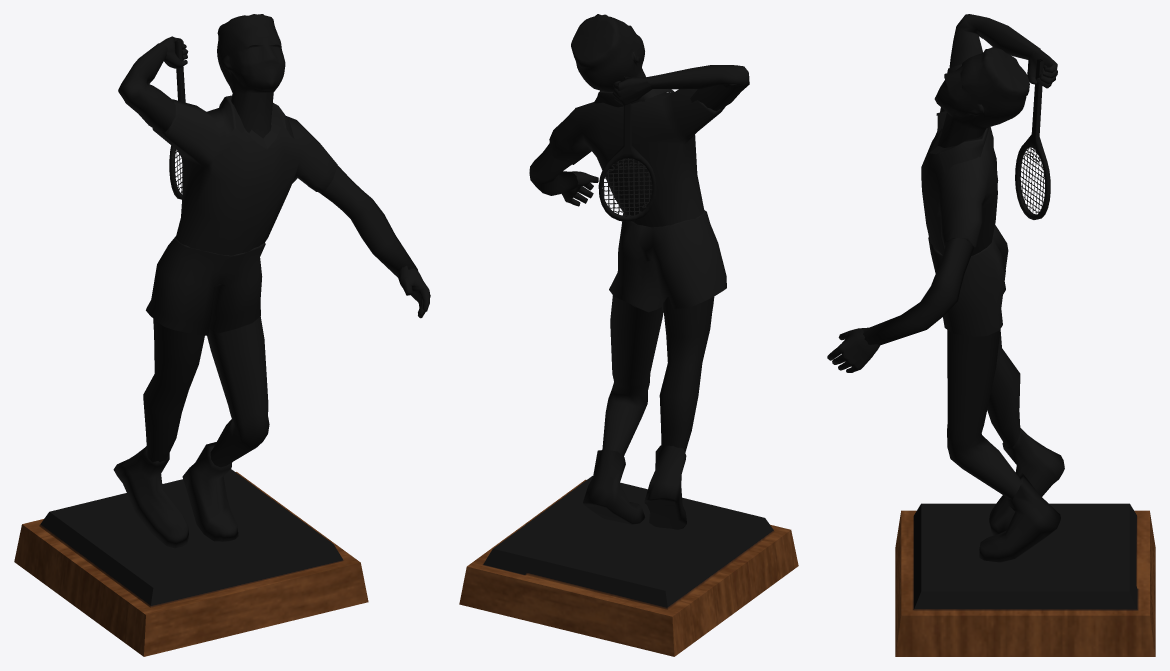
The model's file is Small statue.fbx.
The picture shows the model from 3 angles, left to right: view 1: azimuth 30°, elevation 25°; view 2: azimuth 150°, elevation 25°; view 3: azimuth 270°, elevation 25°; orthographic projection. The views are drawn at different scales.
Parts seen in each view (by area): view 1: stand, t_shirt, shots, right_leg, face, left_leg, lefr_shoe, right_hand, right_shoe, left_hand, collar2, right_palm (+1 smaller); view 2: stand, t_shirt, shots, right_leg, left_leg, face, left_hand, lefr_shoe, right_shoe, pPipe1, right_hand, pPlane2 (+2 smaller); view 3: stand, right_leg, t_shirt, face, shots, right_hand, right_shoe, lefr_shoe, left_hand, left_leg, pPipe1, right_palm (+3 smaller).
Boxes of the visible parts, x1,y1,x2,y2 form: stand: (14, 469, 368, 656); t_shirt: (152, 99, 337, 255); shots: (146, 236, 265, 335); right_leg: (207, 317, 269, 467); face: (217, 14, 285, 138); left_leg: (143, 319, 204, 462); lefr_shoe: (113, 446, 188, 548); right_hand: (319, 165, 417, 277); right_shoe: (182, 442, 238, 541); left_hand: (118, 43, 175, 132); collar2: (219, 95, 294, 149); right_palm: (398, 265, 430, 318); stand: (459, 476, 798, 656); t_shirt: (549, 89, 725, 227); shots: (609, 210, 726, 312); right_leg: (602, 295, 663, 456); left_leg: (659, 296, 714, 452); face: (571, 14, 645, 91); left_hand: (642, 65, 749, 110); lefr_shoe: (644, 445, 686, 529); right_shoe: (583, 449, 644, 524); pPipe1: (598, 76, 656, 221); right_hand: (529, 143, 578, 195); pPlane2: (603, 158, 652, 216); stand: (895, 503, 1155, 656); right_leg: (947, 329, 1021, 499); t_shirt: (921, 64, 998, 255); face: (934, 47, 1029, 147); shots: (928, 225, 1008, 336); right_hand: (863, 238, 974, 345); right_shoe: (978, 473, 1060, 562); lefr_shoe: (989, 428, 1064, 535); left_hand: (949, 14, 1040, 67); left_leg: (987, 329, 1020, 447); pPipe1: (1015, 59, 1050, 219); right_palm: (827, 327, 880, 372).
Bounding box in the file's own units: 22.79 × 47.3 × 24.55.
Materials: 1 (1 with a texture image).
